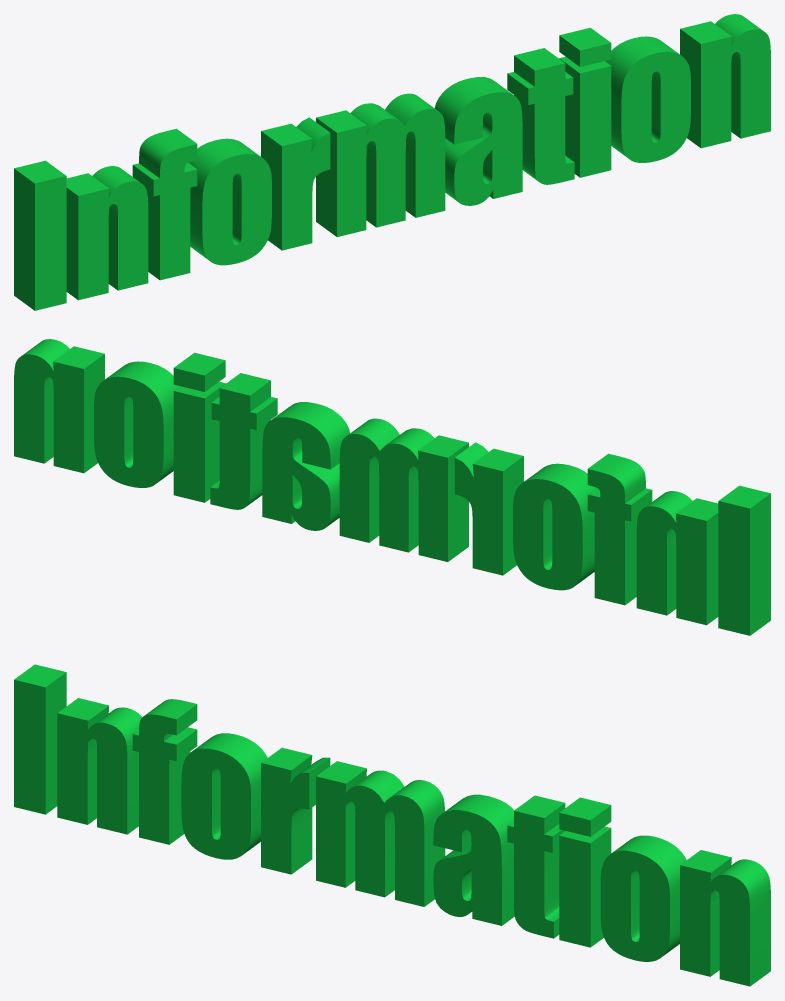
The model's file is Information.glb.
3 views of the same model, one above another, from view 1: azimuth 30°, elevation 25°; view 2: azimuth 150°, elevation 25°; view 3: azimuth 330°, elevation 25° (orthographic).
Parts seen in each view (by area): view 1: mesh_id32; view 2: mesh_id32; view 3: mesh_id32.
Part boxes in pixels (x1=…): mesh_id32: x1=14, y1=14, x2=770, y2=310; mesh_id32: x1=14, y1=339, x2=770, y2=635; mesh_id32: x1=14, y1=664, x2=770, y2=986.
Size of the model in its own units: 0.3054 by 0.0512 by 0.015.
Materials: 1 (1 with a texture image).
